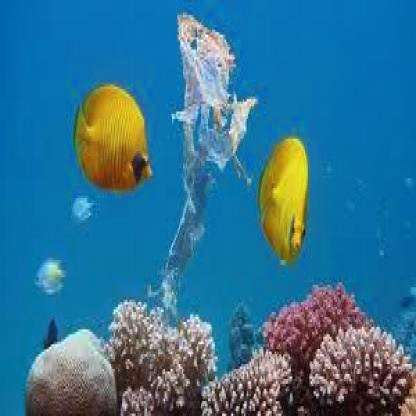pbag: (144, 10, 260, 319)
